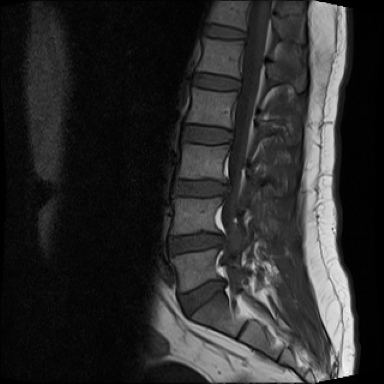Lumbar Disc Bulge (LDB): (170, 268, 236, 324), (164, 221, 235, 261), (166, 170, 237, 204)
Normal IVD: (174, 118, 239, 149), (187, 69, 248, 95), (196, 20, 252, 47)
Spinal Stenosis (SS): (207, 168, 251, 206), (203, 217, 244, 255), (207, 267, 237, 304)
